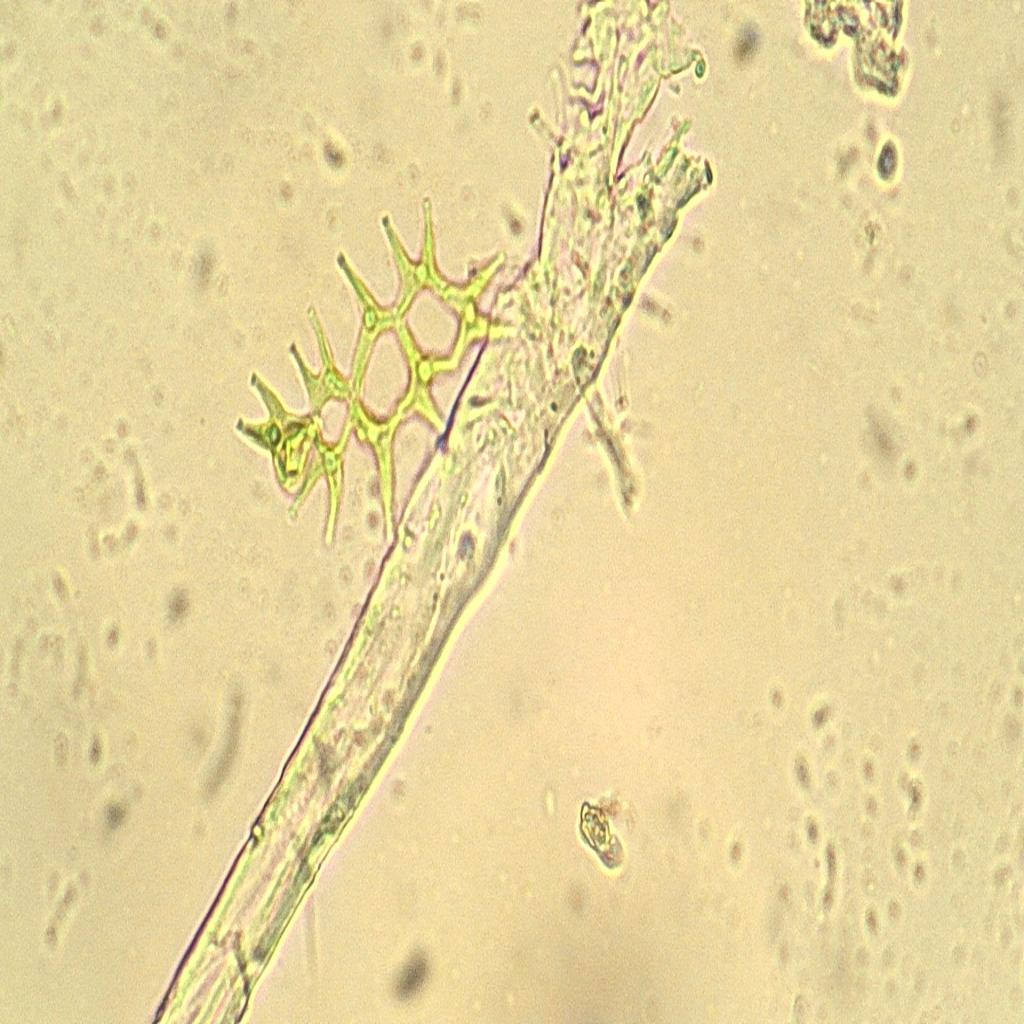Pediastrum_CFI: (228, 180, 556, 566)
